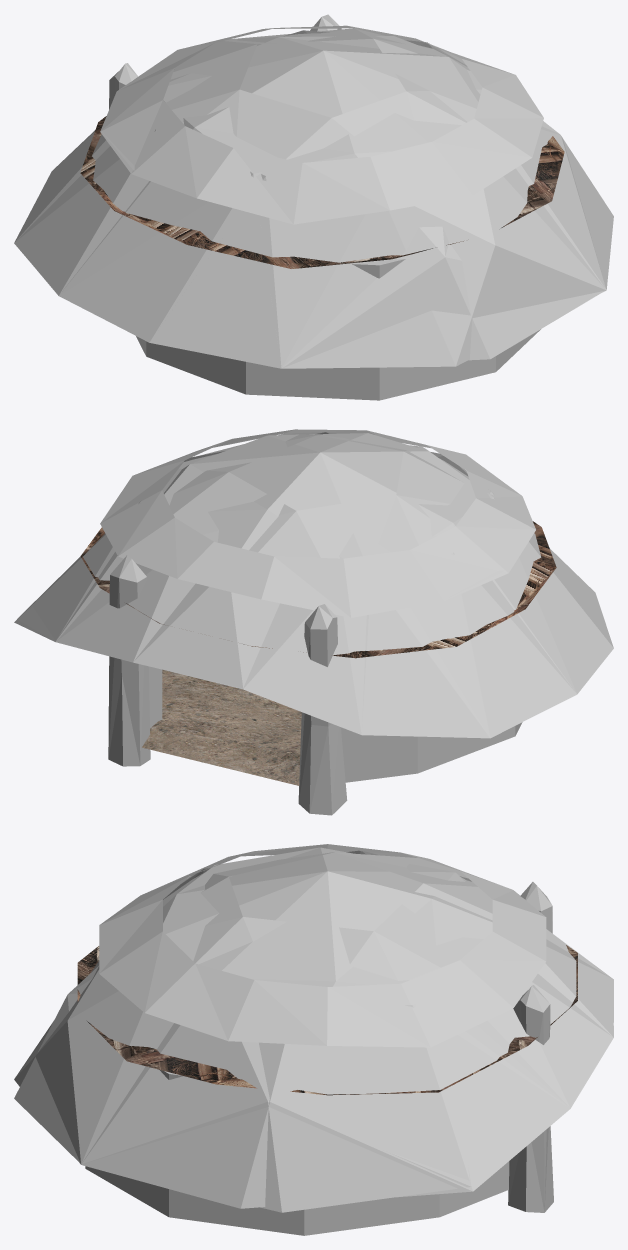
File: Sty_1_LOD3.fbx
3 views of the same model, one above another, from view 1: azimuth 30°, elevation 25°; view 2: azimuth 150°, elevation 25°; view 3: azimuth 270°, elevation 25° (orthographic). The views are drawn at different scales.
Visible parts, largest first — view 1: Alpha, Wood, Roof; view 2: Alpha, Wood, Ground, Roof; view 3: Alpha, Wood, Roof.
Boxes of the visible parts, x1,y1,x2,y2 form: Alpha: (14, 25, 613, 368); Wood: (109, 14, 540, 400); Roof: (80, 116, 564, 268); Alpha: (14, 429, 613, 738); Wood: (108, 555, 522, 815); Ground: (142, 669, 301, 785); Roof: (80, 521, 556, 658); Alpha: (14, 844, 613, 1212); Wood: (85, 882, 553, 1235); Roof: (77, 945, 577, 1095).
Size of the model in its own units: 836 by 787 by 409.
